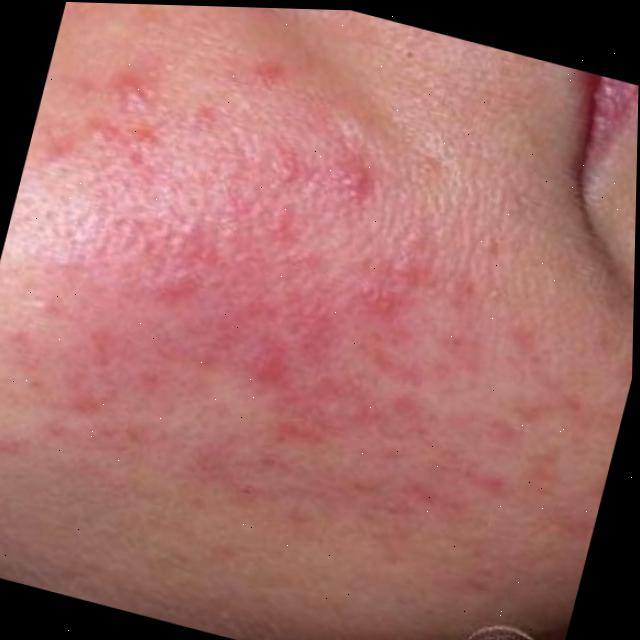Rosacea: (0, 25, 627, 629)
